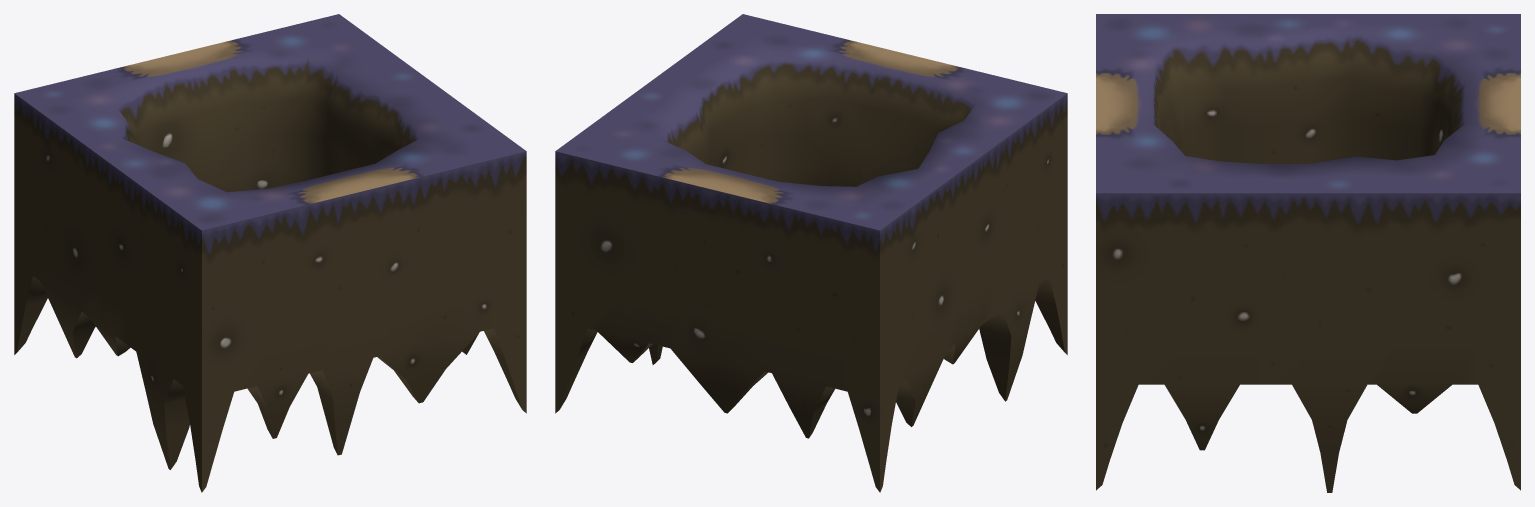
Rendered from Island_Chasm_SEV_001.FBX.
3 renders of one model, left to right at view 1: azimuth 30°, elevation 25°; view 2: azimuth 150°, elevation 25°; view 3: azimuth 270°, elevation 25°, orthographic. The views are drawn at different scales.
Parts seen in each view (by area): view 1: Chasm; view 2: Chasm; view 3: Chasm.
Part boxes in pixels (x1=…): Chasm: x1=14, y1=14, x2=526, y2=492; Chasm: x1=555, y1=14, x2=1067, y2=492; Chasm: x1=1096, y1=14, x2=1520, y2=492.
Size of the model in its own units: 10 by 8.15 by 10.
